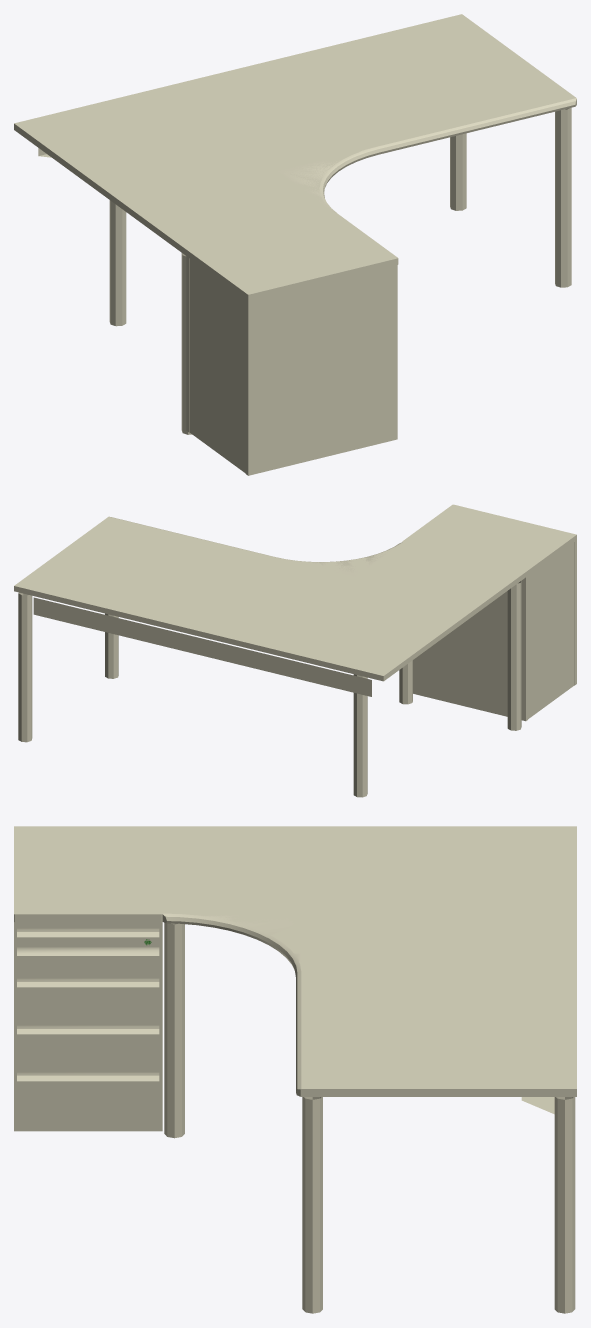
File: desk2.obj
3 renders of one model, top to bottom at view 1: azimuth 30°, elevation 25°; view 2: azimuth 150°, elevation 25°; view 3: azimuth 270°, elevation 25°, orthographic. The views are drawn at different scales.
Parts seen in each view (by area): view 1: _2BNX13D05_7_7, _2BNL13D05_2_2, _2BNX13D05_7_16, _2BNL13D02_5_5, _2BNL13D05_2_11, _2BNX13D07_1_1, _2BNX13D04_8_8, _2BNL13D02_5_14, _2BNX13D07_1_10, _2BNX13D04_8_17; view 2: _2BNX13D05_7_7, _2BNL13D05_2_2, _2BNX13D05_7_16, _2BNX13D07_1_1, _2BNL13D02_5_5, _2BNL13D05_2_11, _2BNX13D03_9_9, _2BNL13D02_5_14, _2BNX13D07_1_10, _2BNX13D03_9_18, _2BNX13D04_8_8; view 3: _2BNX13D05_7_7, _2BNX13D05_7_16, _2BNL13D04_3_3, _2BNX13D07_1_1, _2BNL13D02_5_5, _2BNL13D04_3_12, _2BNL13D02_5_14, _2BNX13D07_1_10, _2BNX13D04_8_8, _2BNL13D05_2_2, _2BNL13D01_6_6, _2BNX13D04_8_17 (+1 smaller).
Boxes of the visible parts, <box> form: _2BNX13D05_7_7: <box>14,14,575,255</box>; _2BNL13D05_2_2: <box>186,256,397,475</box>; _2BNX13D05_7_16: <box>15,15,574,254</box>; _2BNL13D02_5_5: <box>186,213,397,301</box>; _2BNL13D05_2_11: <box>186,257,397,474</box>; _2BNX13D07_1_1: <box>109,107,571,434</box>; _2BNX13D04_8_8: <box>278,98,576,213</box>; _2BNL13D02_5_14: <box>186,216,397,300</box>; _2BNX13D07_1_10: <box>109,108,571,434</box>; _2BNX13D04_8_17: <box>282,100,575,210</box>; _2BNX13D05_7_7: <box>14,517,525,681</box>; _2BNL13D05_2_2: <box>413,540,576,721</box>; _2BNX13D05_7_16: <box>18,518,525,679</box>; _2BNX13D07_1_1: <box>18,581,521,797</box>; _2BNL13D02_5_5: <box>403,504,576,576</box>; _2BNL13D05_2_11: <box>413,542,576,719</box>; _2BNX13D03_9_9: <box>33,597,371,696</box>; _2BNL13D02_5_14: <box>406,505,576,575</box>; _2BNX13D07_1_10: <box>18,581,521,796</box>; _2BNX13D03_9_18: <box>34,599,371,695</box>; _2BNX13D04_8_8: <box>109,516,401,575</box>; _2BNX13D05_7_7: <box>162,826,576,1096</box>; _2BNX13D05_7_16: <box>162,826,576,1096</box>; _2BNL13D04_3_3: <box>17,928,159,1131</box>; _2BNX13D07_1_1: <box>164,922,575,1313</box>; _2BNL13D02_5_5: <box>14,826,162,913</box>; _2BNL13D04_3_12: <box>17,928,159,1130</box>; _2BNL13D02_5_14: <box>14,826,162,913</box>; _2BNX13D07_1_10: <box>164,923,575,1313</box>; _2BNX13D04_8_8: <box>162,913,301,1096</box>; _2BNL13D05_2_2: <box>14,922,162,1131</box>; _2BNL13D01_6_6: <box>14,914,162,922</box>; _2BNX13D04_8_17: <box>164,914,301,1096</box>.
Size of the model in its own units: 180 by 72 by 163.
